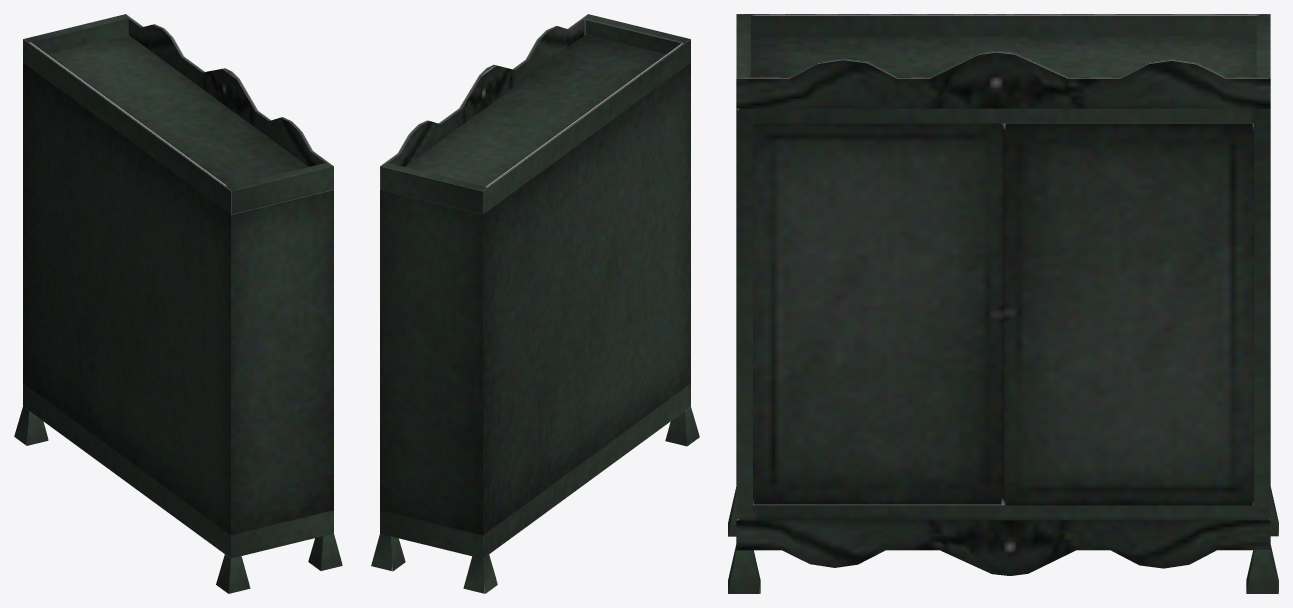
The model's file is Wooden Green Wardrobe.fbx.
3 renders of one model, left to right at view 1: azimuth 30°, elevation 25°; view 2: azimuth 150°, elevation 25°; view 3: azimuth 270°, elevation 25°, orthographic. The views are drawn at different scales.
Visible parts, largest first — view 1: Green Wooden Wardrobe; view 2: Green Wooden Wardrobe; view 3: Green Wooden Wardrobe, Door-1.001, Door-2.001.
Boxes of the visible parts, x1=… form: Green Wooden Wardrobe: x1=14, y1=14, x2=342, y2=593; Green Wooden Wardrobe: x1=371, y1=14, x2=699, y2=593; Green Wooden Wardrobe: x1=728, y1=14, x2=1278, y2=593; Door-1.001: x1=1003, y1=123, x2=1253, y2=505; Door-2.001: x1=753, y1=123, x2=1003, y2=505.
Bounding box in the file's own units: 222 × 778 × 721.
